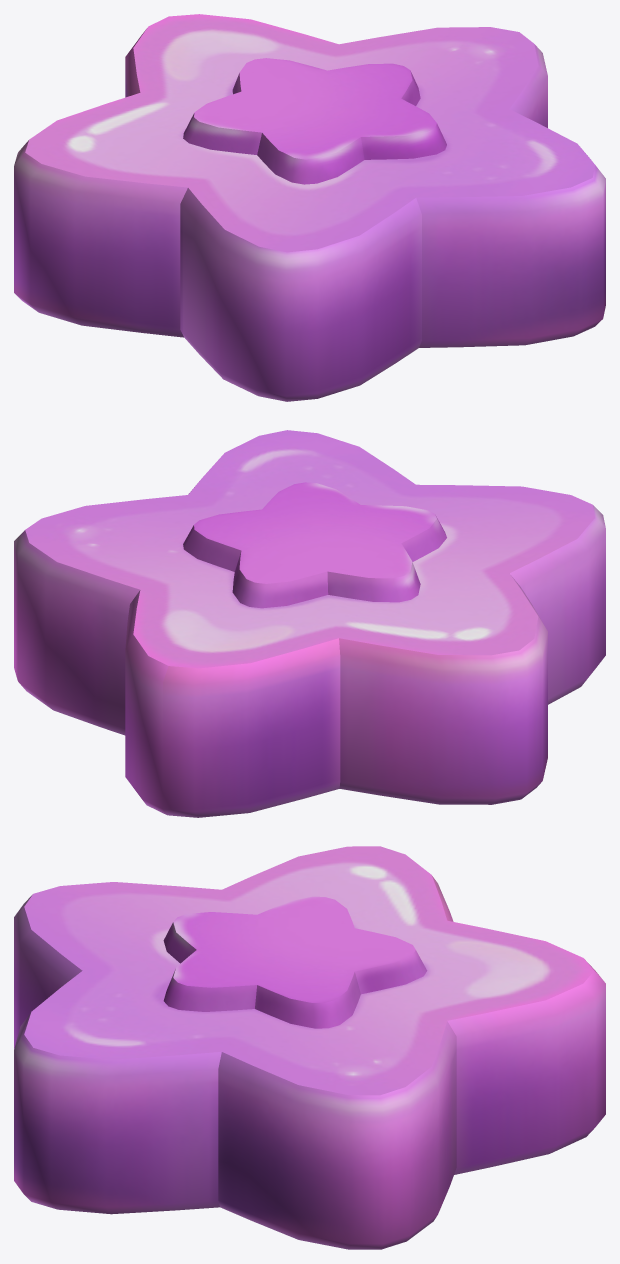
Rendered from 新糖果工厂-道具-糖果02.FBX.
The picture shows the model from 3 angles, top to bottom: view 1: azimuth 30°, elevation 25°; view 2: azimuth 150°, elevation 25°; view 3: azimuth 270°, elevation 25°; orthographic projection. The views are drawn at different scales.
Parts seen in each view (by area): view 1: 新糖果工厂-道具-糖果02; view 2: 新糖果工厂-道具-糖果02; view 3: 新糖果工厂-道具-糖果02.
Part boxes in pixels (x1,y1,x2,y2): 新糖果工厂-道具-糖果02: [14, 14, 605, 401]; 新糖果工厂-道具-糖果02: [14, 430, 605, 817]; 新糖果工厂-道具-糖果02: [14, 846, 605, 1249].
Bounding box in the file's own units: 8.44 × 2.65 × 8.16.
